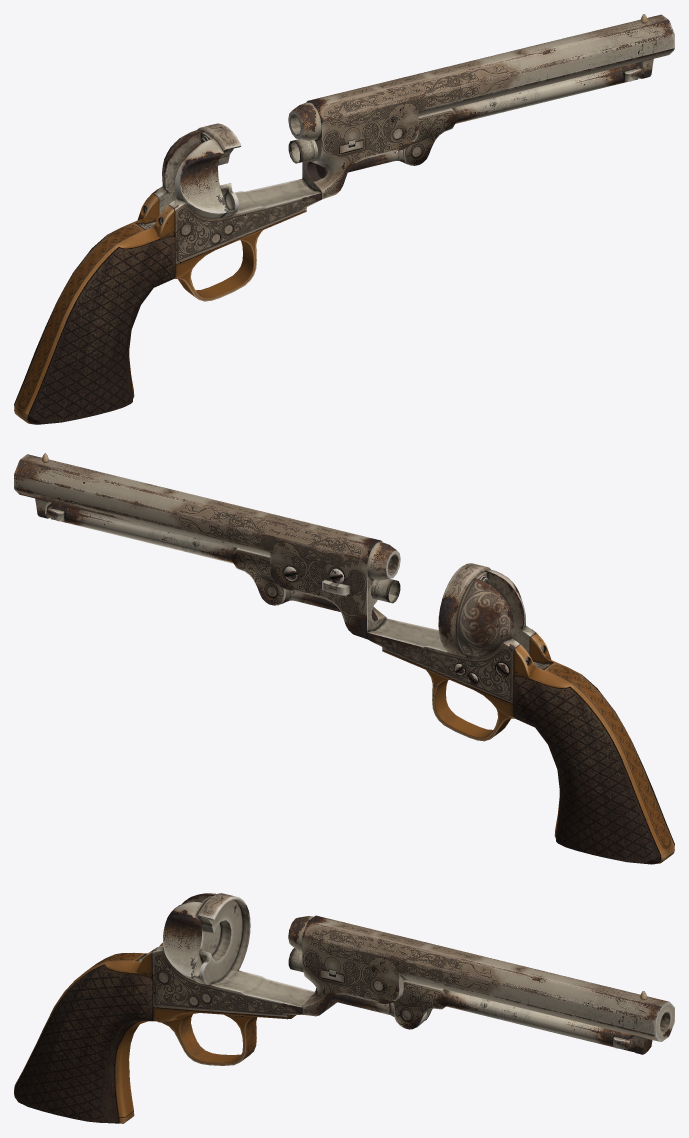
Rendered from colt.obj.
3 views of the same model, one above another, from view 1: azimuth 30°, elevation 25°; view 2: azimuth 150°, elevation 25°; view 3: azimuth 330°, elevation 25° (orthographic).
Visible parts, largest first — view 1: FP_Body_Circle.005; view 2: FP_Body_Circle.005; view 3: FP_Body_Circle.005.
Part boxes in pixels (box(x1,y1,x2,y2)): FP_Body_Circle.005: box(14, 14, 674, 424); FP_Body_Circle.005: box(14, 453, 674, 864); FP_Body_Circle.005: box(14, 893, 674, 1123).
Bounding box in the file's own units: 9.73 × 3.68 × 1.12.
1 material, 1 textured.
